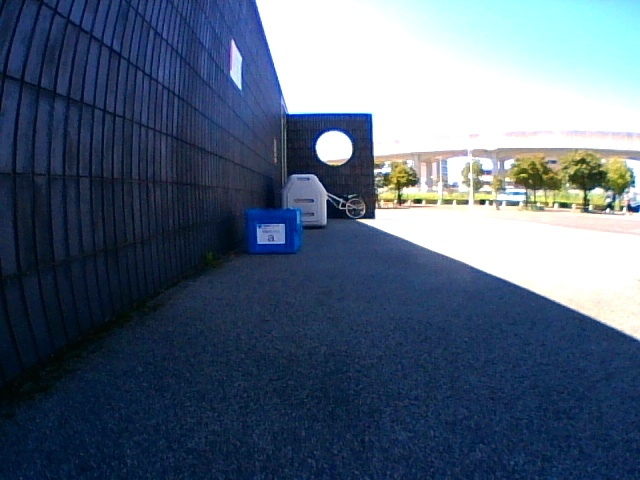blue_box: (244, 208, 301, 254)
tag_a: (258, 225, 284, 243)
